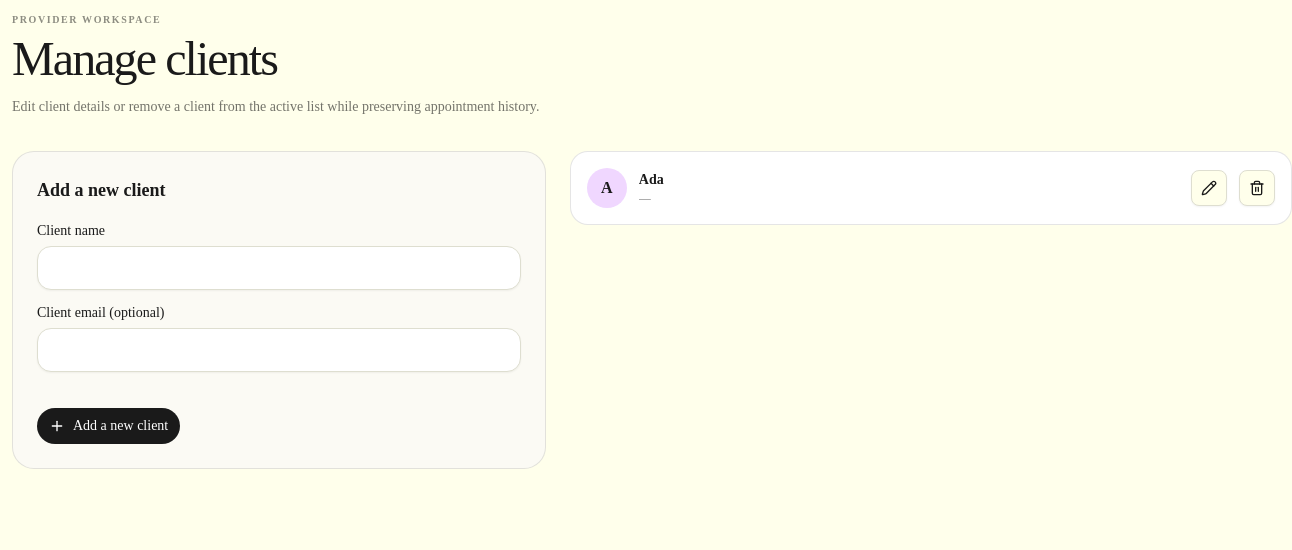
Test: provider appointments calendar › shows the conflicting student's name in en while preserving the edit
Click the button named "Edit client: Ada".
click(1209, 188)  # box [1191,170,1227,206]
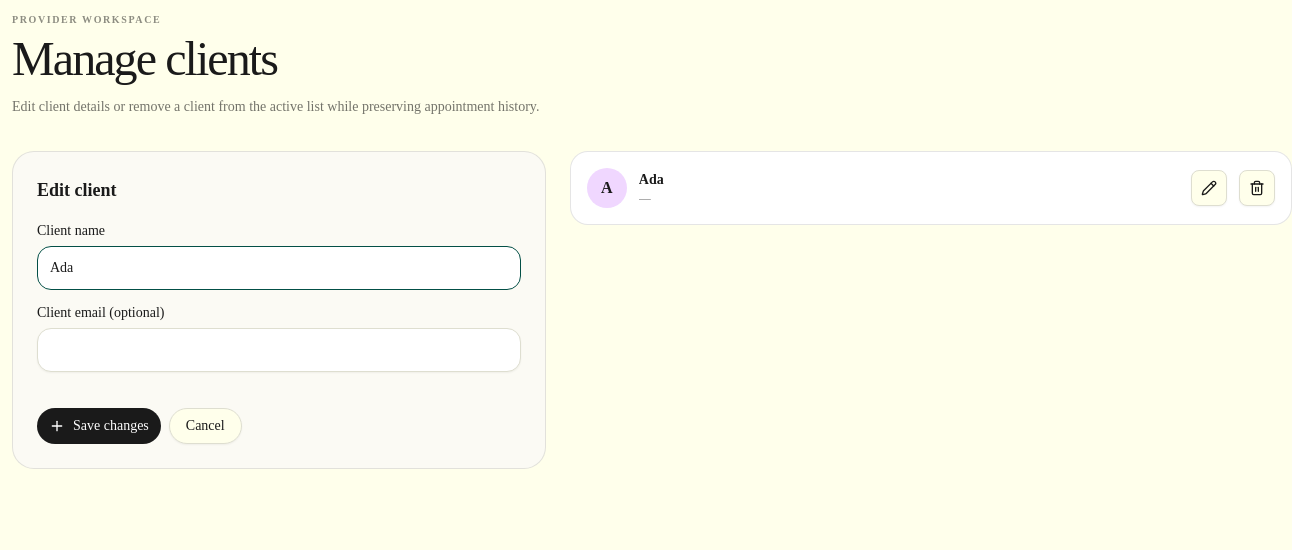
Type "ada@example.com" into the field labelled "Client email (optional)".
click(279, 350); type("ada@example.com")  # box [37,328,521,372]
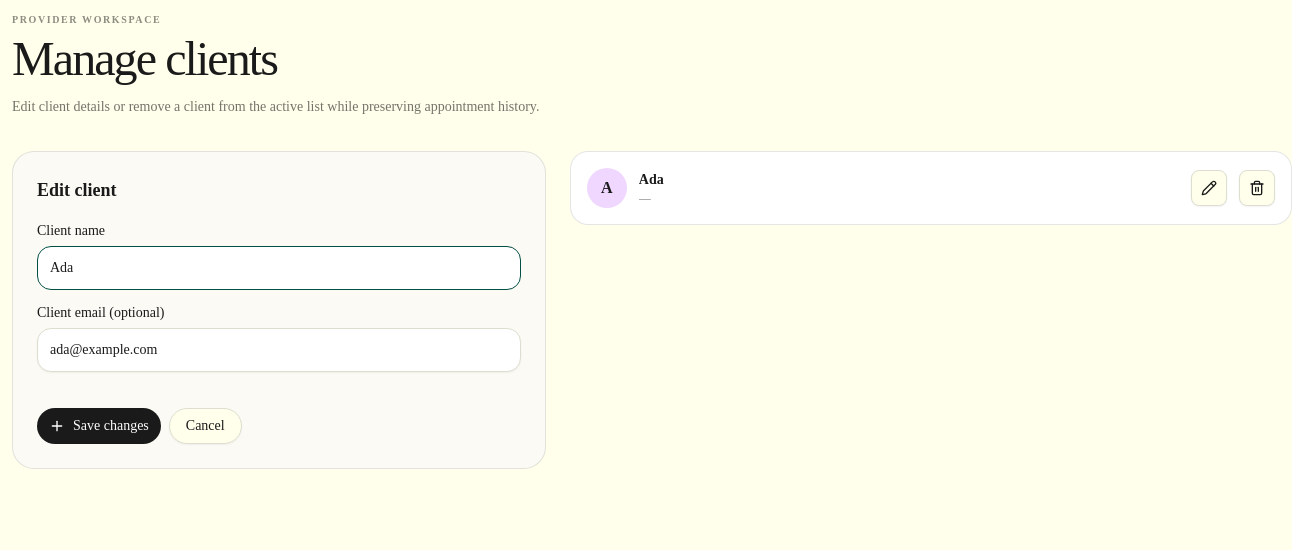
Click the button "Save changes".
click(99, 426)  # box [37,408,161,444]
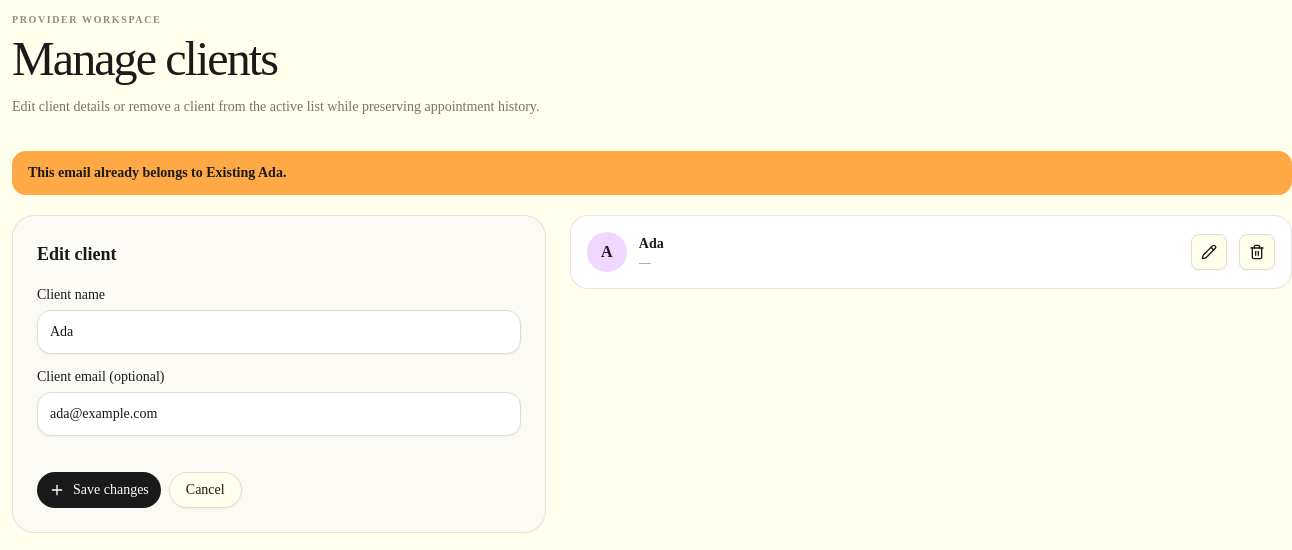
Check: the button "Save changes" is shown, box [37,472,161,508]
Check: the text "This email already belongs to Existing Ada." is shown, box [12,151,1291,195]
